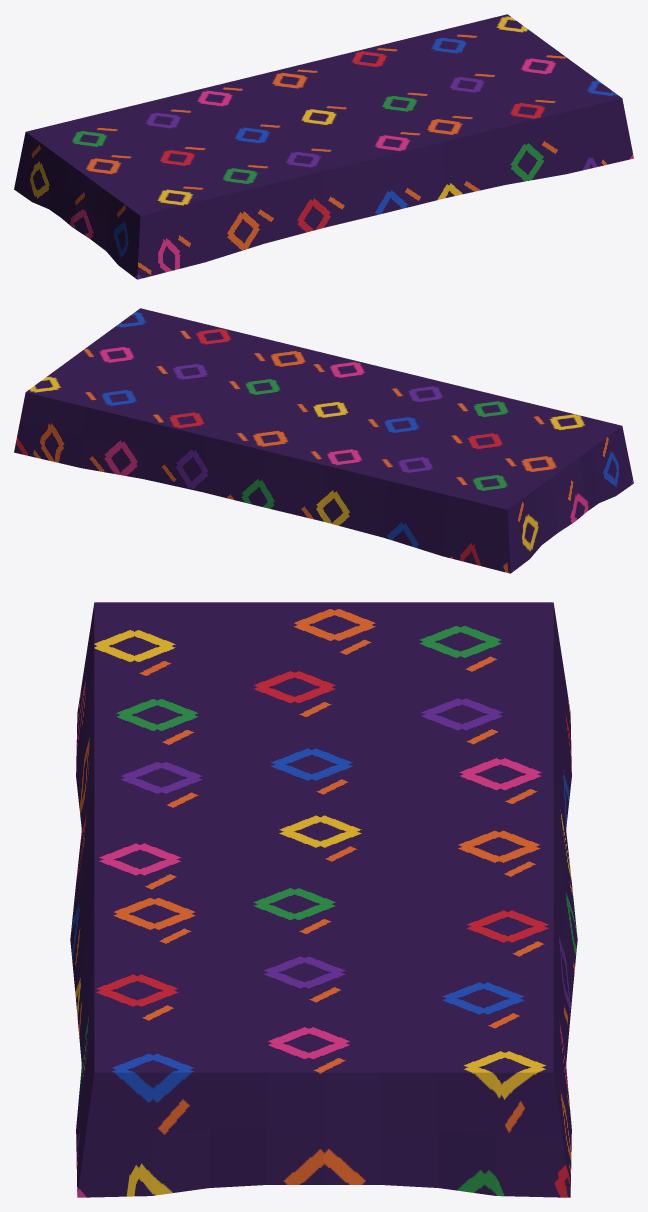
File: party_cloth_rect_arcade.glb
The picture shows the model from 3 angles, top to bottom: view 1: azimuth 30°, elevation 25°; view 2: azimuth 150°, elevation 25°; view 3: azimuth 270°, elevation 25°; orthographic projection. The views are drawn at different scales.
Visible parts, largest first — view 1: party_cloth_rect_arcade; view 2: party_cloth_rect_arcade; view 3: party_cloth_rect_arcade.
Part boxes in pixels (box(x1,y1,x2,y2)): party_cloth_rect_arcade: box(14, 14, 633, 279); party_cloth_rect_arcade: box(14, 308, 633, 573); party_cloth_rect_arcade: box(70, 602, 577, 1197).
Size of the model in its own units: 2.22 by 0.2493 by 0.97.
Materials: 1 (1 with a texture image).
